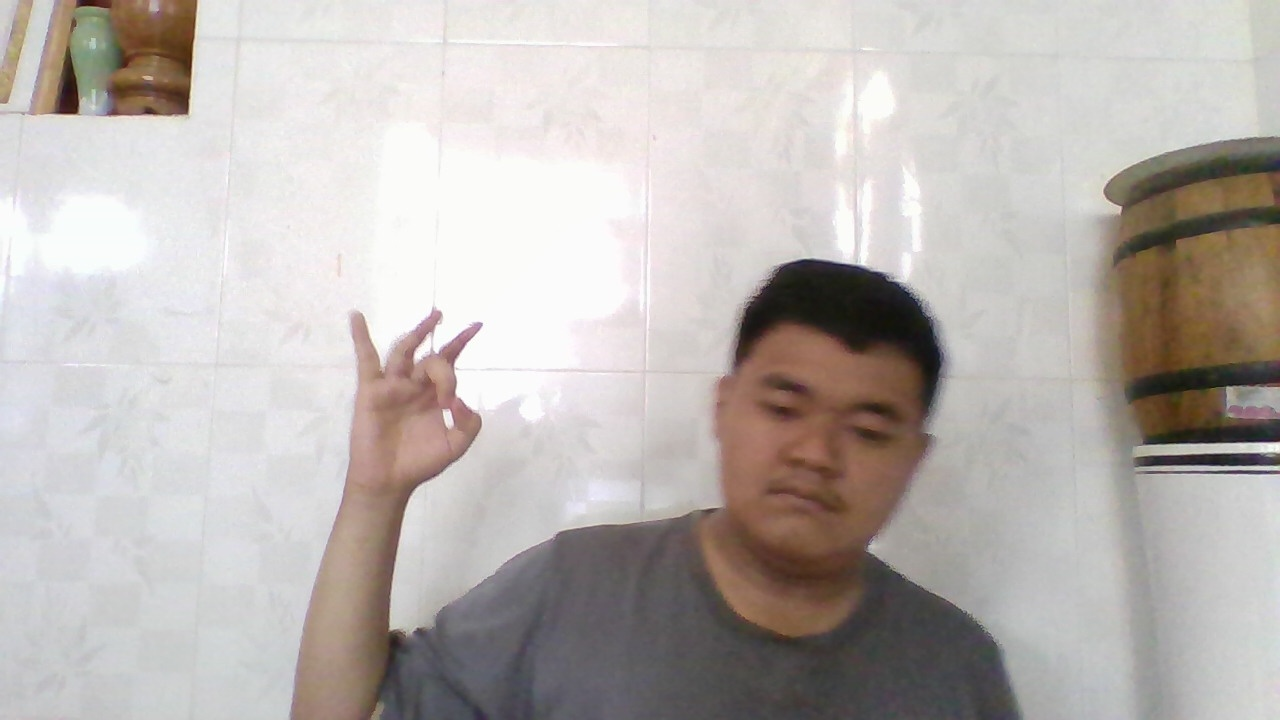H: (339, 298, 493, 501)
